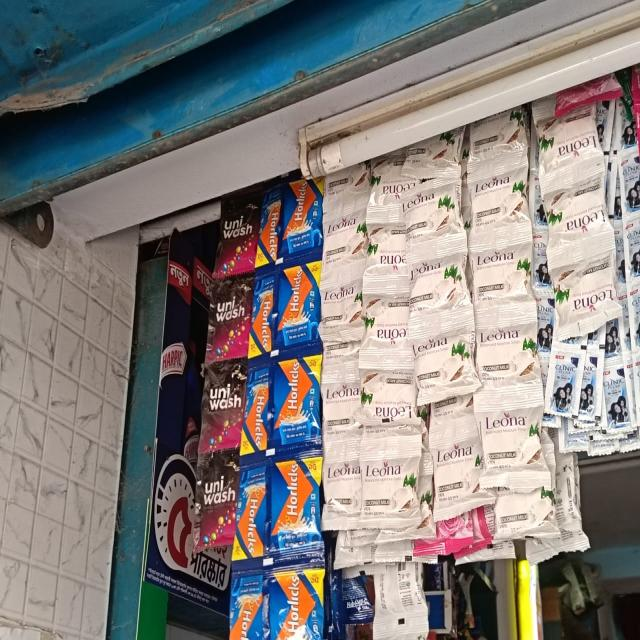non-ubl: (470, 292, 542, 406), (426, 404, 491, 523), (400, 179, 469, 263), (463, 158, 532, 242), (412, 317, 480, 402), (357, 292, 418, 384), (546, 198, 616, 276), (533, 116, 604, 191), (482, 405, 546, 484), (468, 238, 536, 312), (405, 250, 471, 326), (550, 256, 616, 330), (356, 445, 419, 522), (396, 124, 466, 188), (363, 148, 414, 235), (212, 193, 262, 281), (202, 274, 247, 360), (488, 488, 556, 542), (358, 380, 421, 437), (320, 363, 362, 442), (315, 278, 367, 338), (362, 212, 412, 272), (194, 466, 233, 538), (201, 371, 237, 447), (360, 255, 412, 306), (319, 216, 365, 262)
ubl: (268, 352, 324, 451), (272, 461, 323, 553), (270, 262, 322, 352), (274, 175, 324, 264), (265, 568, 325, 640), (232, 462, 272, 562), (249, 266, 284, 356), (240, 362, 273, 457), (544, 340, 584, 418), (598, 361, 636, 439), (227, 574, 268, 640), (257, 183, 288, 266), (617, 142, 640, 222)
